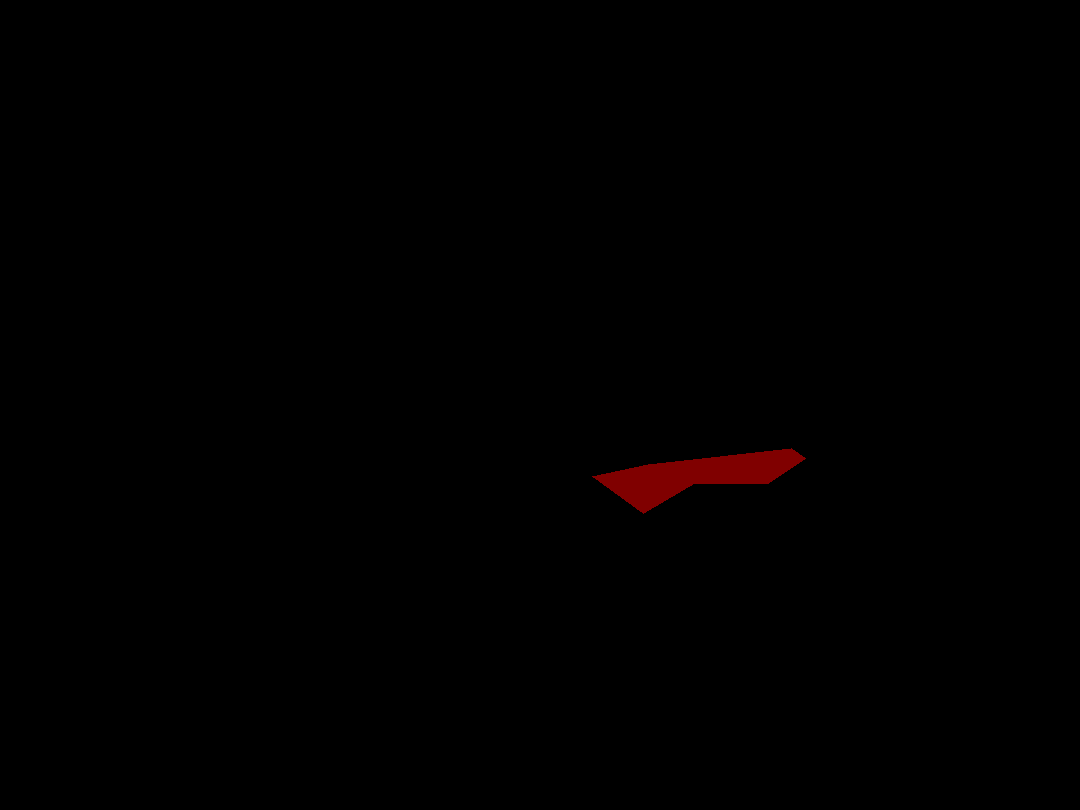fire: (592, 448, 805, 513)
